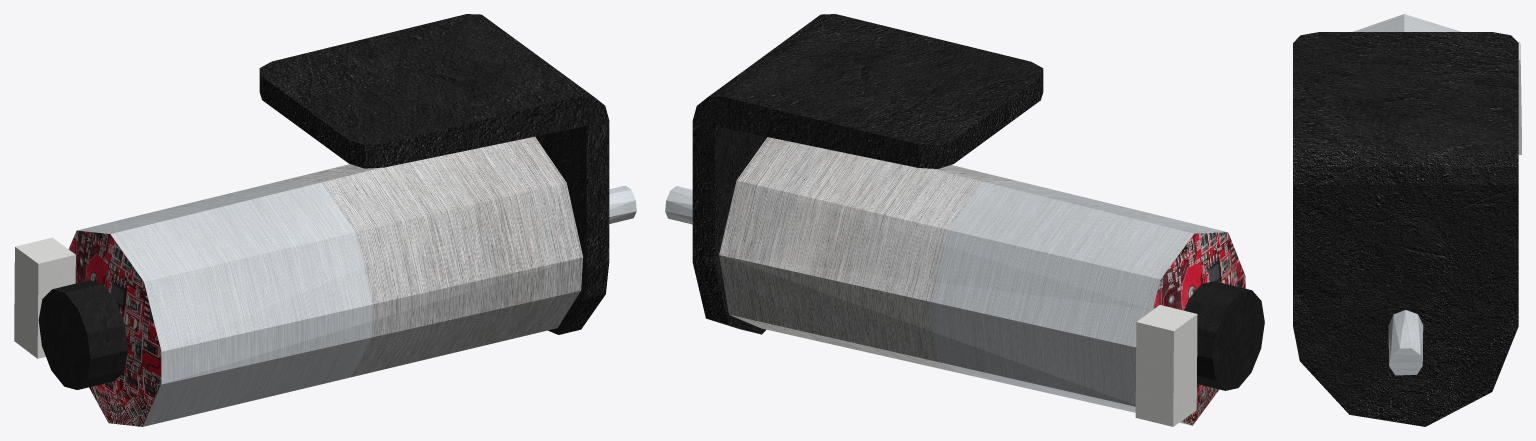
Rendered from wheel_motor_stator.dae.
3 renders of one model, left to right at view 1: azimuth 30°, elevation 25°; view 2: azimuth 150°, elevation 25°; view 3: azimuth 270°, elevation 25°, orthographic.
Parts seen in each view (by area): view 1: Wheel Motor Stator; view 2: Wheel Motor Stator; view 3: Wheel Motor Stator.
Part boxes in pixels (left/top/right/bottom): Wheel Motor Stator: left=14, top=14, right=636, bottom=426; Wheel Motor Stator: left=665, top=14, right=1264, bottom=426; Wheel Motor Stator: left=1293, top=14, right=1521, bottom=426.
Size of the model in its own units: 0.0751 by 0.0264 by 0.0348.
Materials: 4 (4 with a texture image).
